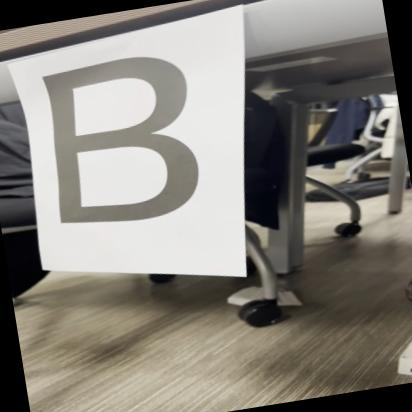seat: (22, 40, 212, 248)
